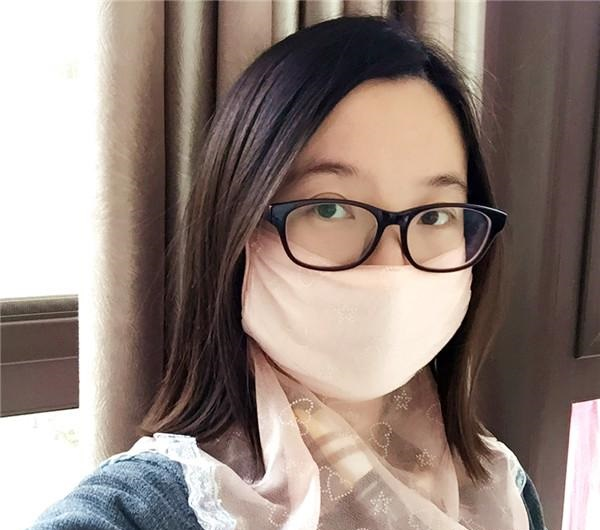face_mask: (247, 87, 476, 398)
